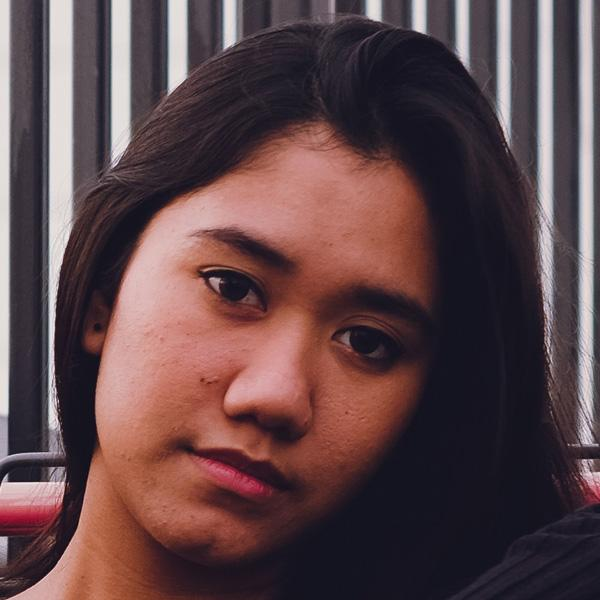Eyes: (326, 305, 415, 381), (189, 252, 274, 325)
